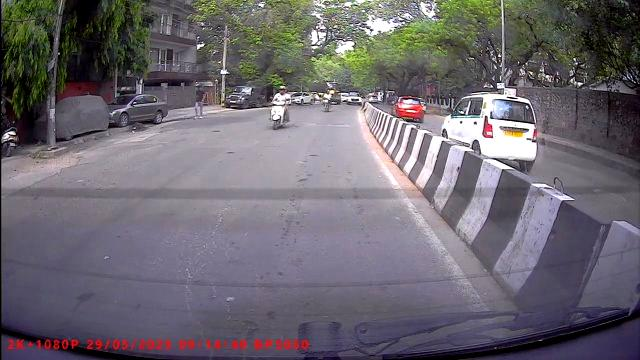motorcycle_with_helmet: (269, 85, 289, 131)
